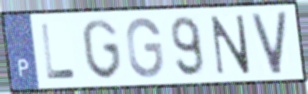9: (169, 15, 207, 78)
G: (80, 17, 124, 81), (125, 16, 166, 80)
L: (39, 22, 78, 82)
N: (209, 13, 252, 77)
V: (249, 9, 290, 77)
